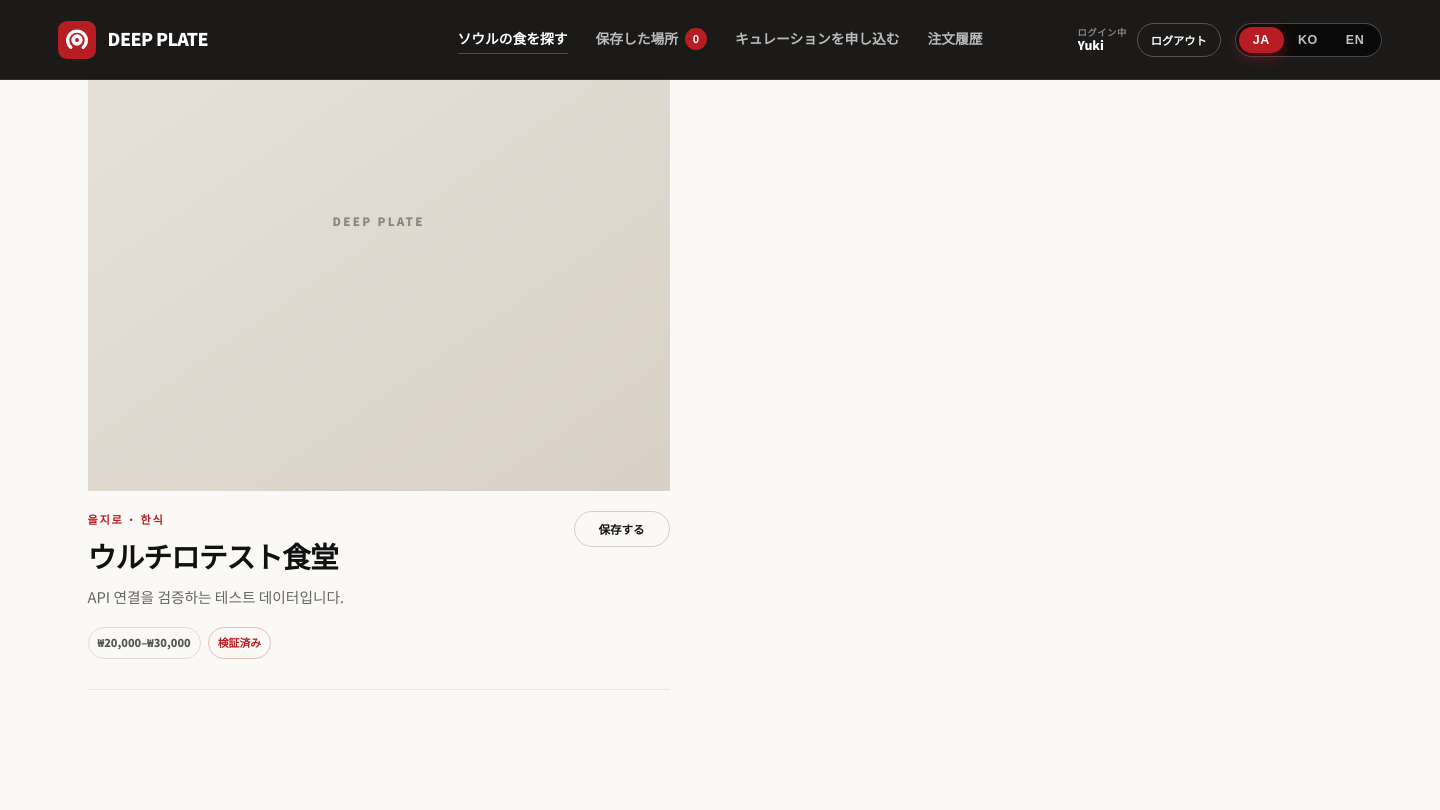
Scenario: Deep Plate 주요 사용자 흐름 › 저장 처리 오류를 화면에 표시한다
(page scrolled)
Step 1. Click the button "保存する" → point(622, 529), box [574,511,670,547]
(page scrolled)
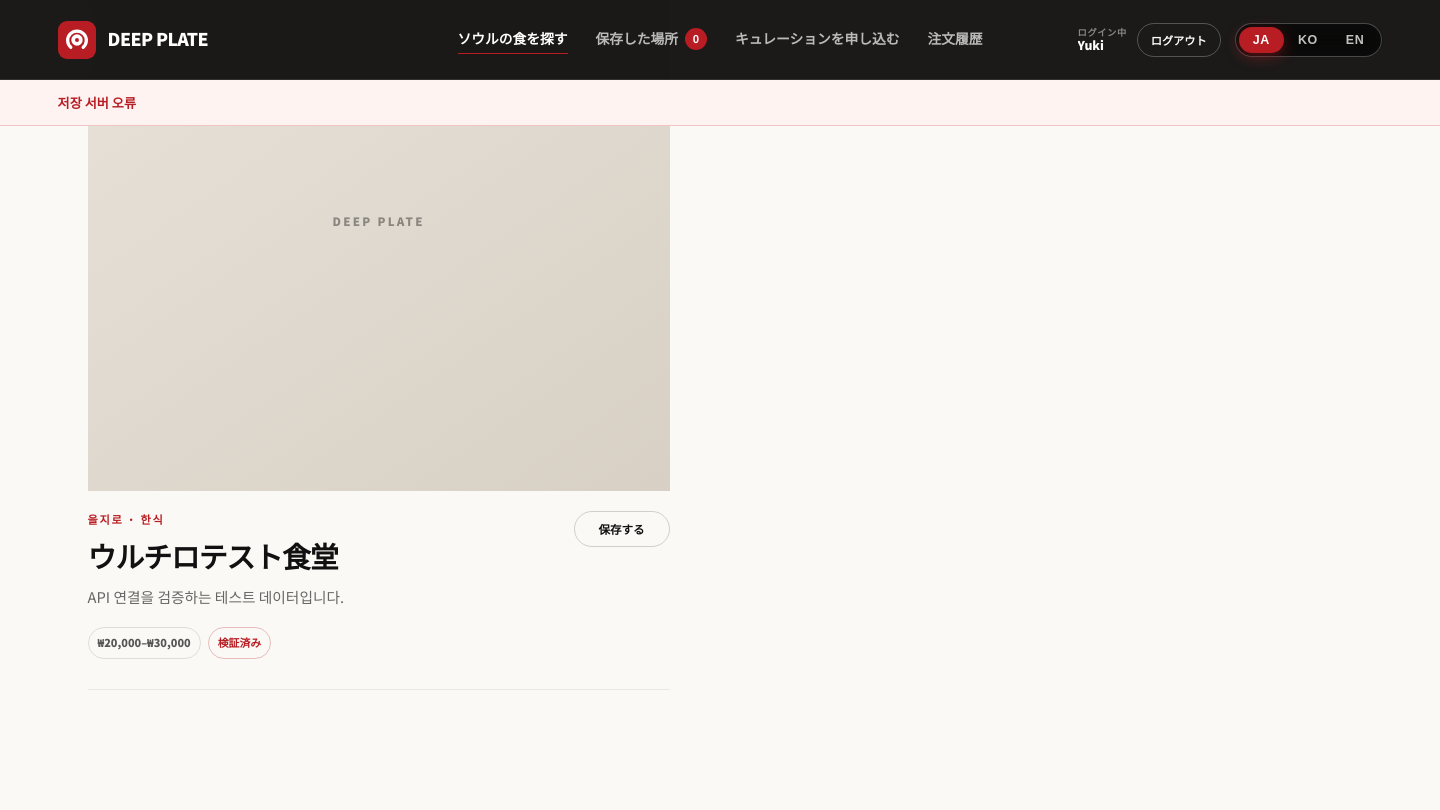
Check: the message reads "저장 서버 오류", box [58,93,136,112]
